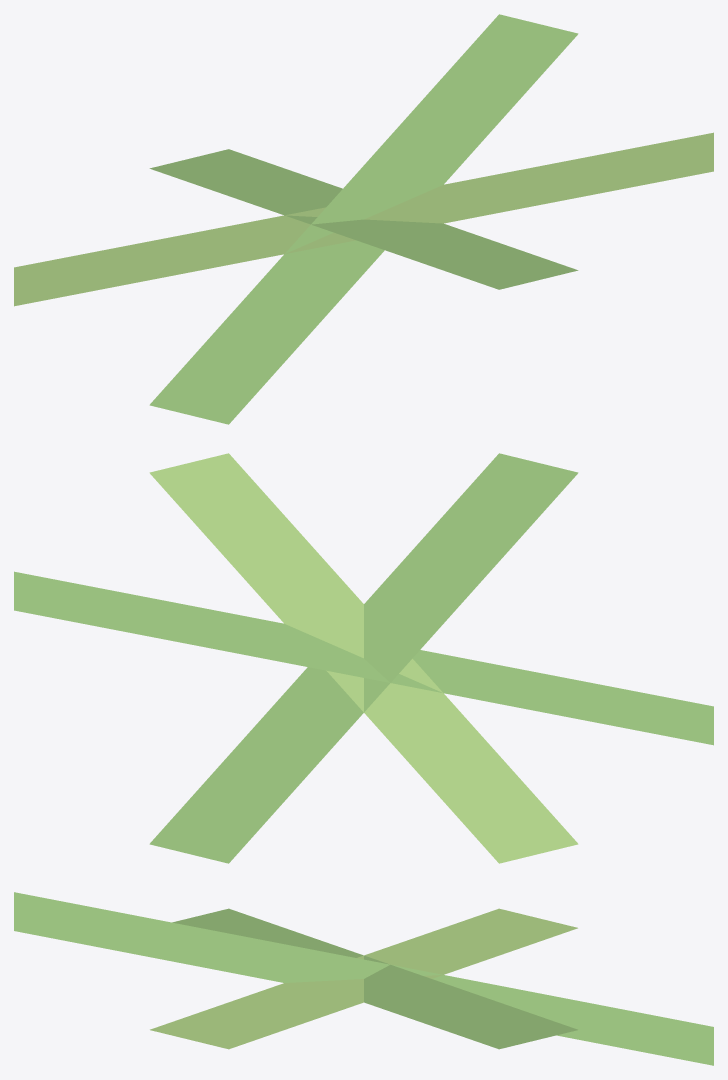
Rendered from grass_tuft.fbx.
The picture shows the model from 3 angles, top to bottom: view 1: azimuth 30°, elevation 25°; view 2: azimuth 150°, elevation 25°; view 3: azimuth 270°, elevation 25°; orthographic projection.
Parts seen in each view (by area): view 1: Blade2, Blade1, Blade0; view 2: Blade0, Blade1, Blade2; view 3: Blade0, Blade1, Blade2.
Boxes of the visible parts, x1,y1,x2,y2 form: Blade2: [149, 14, 578, 424]; Blade1: [14, 132, 713, 306]; Blade0: [149, 149, 578, 289]; Blade0: [149, 453, 578, 863]; Blade1: [149, 453, 578, 863]; Blade2: [14, 571, 713, 745]; Blade0: [14, 892, 713, 1065]; Blade1: [150, 908, 577, 1049]; Blade2: [172, 908, 577, 1049].
Bounding box in the file's own units: 0.638 × 0.1455 × 0.6847.
